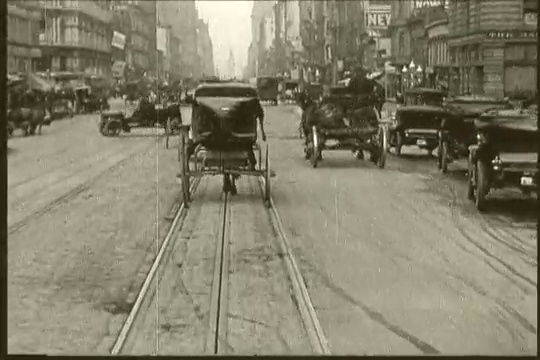car: (467, 106, 540, 225), (436, 91, 520, 169), (92, 88, 190, 142), (384, 103, 448, 160)
carriage: (173, 80, 282, 215), (303, 74, 389, 170)
